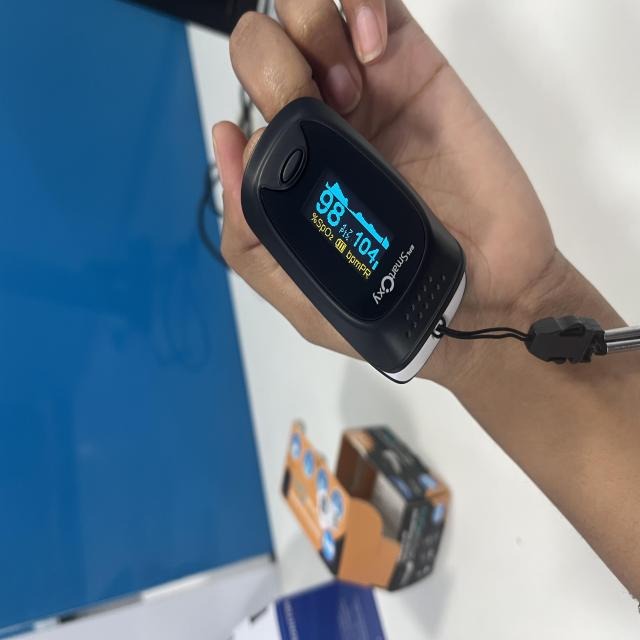spo2: (241, 97, 468, 384)
